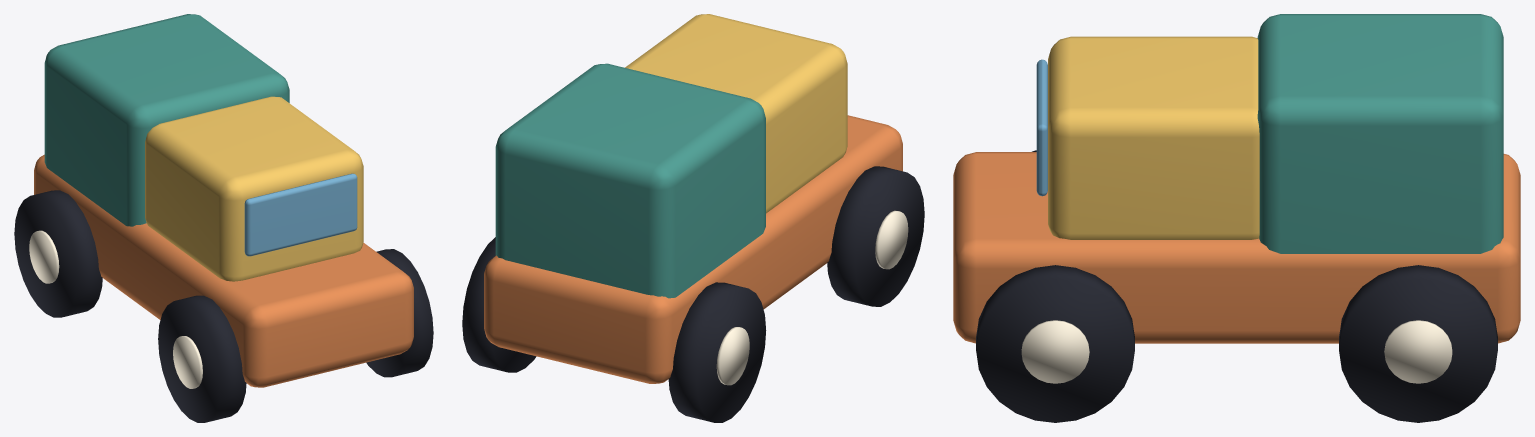
The model's file is word-truck.glb.
3 views of the same model, side by side, from view 1: azimuth 30°, elevation 25°; view 2: azimuth 150°, elevation 25°; view 3: azimuth 270°, elevation 25° (orthographic). The views are drawn at different scales.
Visible parts, largest first — view 1: vehicle body, truck cargo, cabin, rubber wheel.001, rubber wheel, windshield, rubber wheel.002, wheel hub, wheel hub.001; view 2: truck cargo, vehicle body, cabin, rubber wheel, rubber wheel.001, rubber wheel.003, wheel hub, wheel hub.001; view 3: truck cargo, vehicle body, cabin, rubber wheel.002, rubber wheel.003, wheel hub.002, wheel hub.003, windshield.
Part boxes in pixels (x1=…): vehicle body: x1=34, y1=154, x2=413, y2=387; truck cargo: x1=44, y1=14, x2=289, y2=226; cabin: x1=145, y1=96, x2=363, y2=281; rubber wheel.001: x1=14, y1=190, x2=102, y2=317; rubber wheel: x1=158, y1=295, x2=246, y2=422; windshield: x1=244, y1=173, x2=357, y2=256; rubber wheel.002: x1=366, y1=249, x2=433, y2=377; wheel hub: x1=173, y1=336, x2=202, y2=388; wheel hub.001: x1=29, y1=230, x2=59, y2=283; truck cargo: x1=495, y1=63, x2=765, y2=298; vehicle body: x1=484, y1=115, x2=902, y2=383; cabin: x1=625, y1=14, x2=847, y2=213; rubber wheel: x1=827, y1=166, x2=924, y2=306; rubber wheel.001: x1=668, y1=282, x2=766, y2=422; rubber wheel.003: x1=462, y1=237, x2=536, y2=372; wheel hub: x1=875, y1=210, x2=908, y2=269; wheel hub.001: x1=716, y1=327, x2=749, y2=385; truck cargo: x1=1257, y1=14, x2=1503, y2=253; vehicle body: x1=953, y1=152, x2=1520, y2=343; cabin: x1=1048, y1=36, x2=1259, y2=239; rubber wheel.002: x1=976, y1=265, x2=1134, y2=422; rubber wheel.003: x1=1339, y1=265, x2=1497, y2=422; wheel hub.002: x1=1021, y1=320, x2=1089, y2=383; wheel hub.003: x1=1384, y1=320, x2=1452, y2=383; windshield: x1=1036, y1=59, x2=1047, y2=196.
Bounding box in the file's own units: 0.844 × 0.88 × 1.5.
